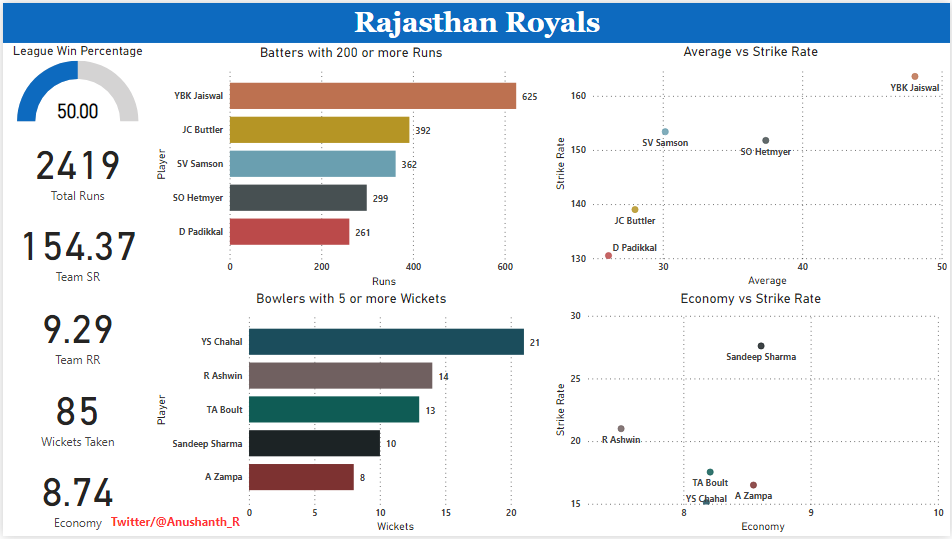

Layout of this report page (visuals, bound fields, positions):
{"tool":"powerbi","page":{"name":"RR","canvas":[1280,720],"ordinal":5},"visuals":[{"type":"textbox","box":[0,0,1280.5,54.1],"z":0},{"type":"scatterChart","title":"Average vs Strike Rate","fields":{"Category":["all_batters.Player"],"Y":["Sum(all_batters.SR)"],"X":["Sum(all_batters.Average)"],"Series":["all_batters.Player"]},"box":[740.5,54.1,540,333.7],"z":1000},{"type":"card","fields":{"Values":["Sum(teamwise_batting.Runs)"]},"box":[0,165.6,201.6,110.9],"z":2000},{"type":"card","fields":{"Values":["Sum(teamwise_batting.SR)"]},"box":[0,276.2,201.6,111.3],"z":3000},{"type":"card","fields":{"Values":["Sum(teamwise_batting.RR)"]},"box":[0,387.4,201.6,110.9],"z":4000},{"type":"card","fields":{"Values":["Sum(teamwise_bowling.Wickets)"]},"box":[0,498.2,201.6,111],"z":5000},{"type":"card","fields":{"Values":["Sum(teamwise_bowling.Economy)"]},"box":[0,607.7,201.6,111],"z":6000},{"type":"barChart","title":"Bowlers with 5 or more Wickets","fields":{"Category":["all_bowlers.Player"],"Y":["Sum(all_bowlers.Wickets)"],"Series":["all_bowlers.Player"]},"box":[202,387.8,538.5,332.2],"z":7000},{"type":"scatterChart","title":"Economy vs Strike Rate","fields":{"Category":["all_bowlers.Player"],"X":["Sum(all_bowlers.Economy)"],"Y":["Sum(all_bowlers.SR)"],"Series":["all_bowlers.Player"]},"box":[740.5,387.8,540,332.2],"z":8000},{"type":"gauge","title":"League Win Percentage","fields":{"Y":["Sum(matches_won.Win Percantage)"]},"box":[0,54.1,202,111],"z":9000},{"type":"barChart","title":"Batters with 200 or more Runs","fields":{"Category":["all_batters.Player"],"Y":["Sum(all_batters.Runs)"],"Series":["all_batters.Player"]},"box":[201.6,55,538,332.5],"z":10000},{"type":"textbox","box":[140,685.4,194.4,31.7],"z":11000}]}

Visuals, with their boxes in screenshot pixels (x1, y1, x2, y2), scaled from the page's 1280x720 canvas onto the 952x539 screenshot:
textbox: x1=0 y1=0 x2=951 y2=40
"Average vs Strike Rate" scatterChart: x1=551 y1=40 x2=951 y2=290
card - Sum(teamwise_batting.Runs): x1=0 y1=124 x2=150 y2=207
card - Sum(teamwise_batting.SR): x1=0 y1=207 x2=150 y2=290
card - Sum(teamwise_batting.RR): x1=0 y1=290 x2=150 y2=373
card - Sum(teamwise_bowling.Wickets): x1=0 y1=373 x2=150 y2=456
card - Sum(teamwise_bowling.Economy): x1=0 y1=455 x2=150 y2=538
"Bowlers with 5 or more Wickets" barChart: x1=150 y1=290 x2=551 y2=538
"Economy vs Strike Rate" scatterChart: x1=551 y1=290 x2=951 y2=538
"League Win Percentage" gauge: x1=0 y1=40 x2=150 y2=124
"Batters with 200 or more Runs" barChart: x1=150 y1=41 x2=550 y2=290
textbox: x1=104 y1=513 x2=249 y2=537
